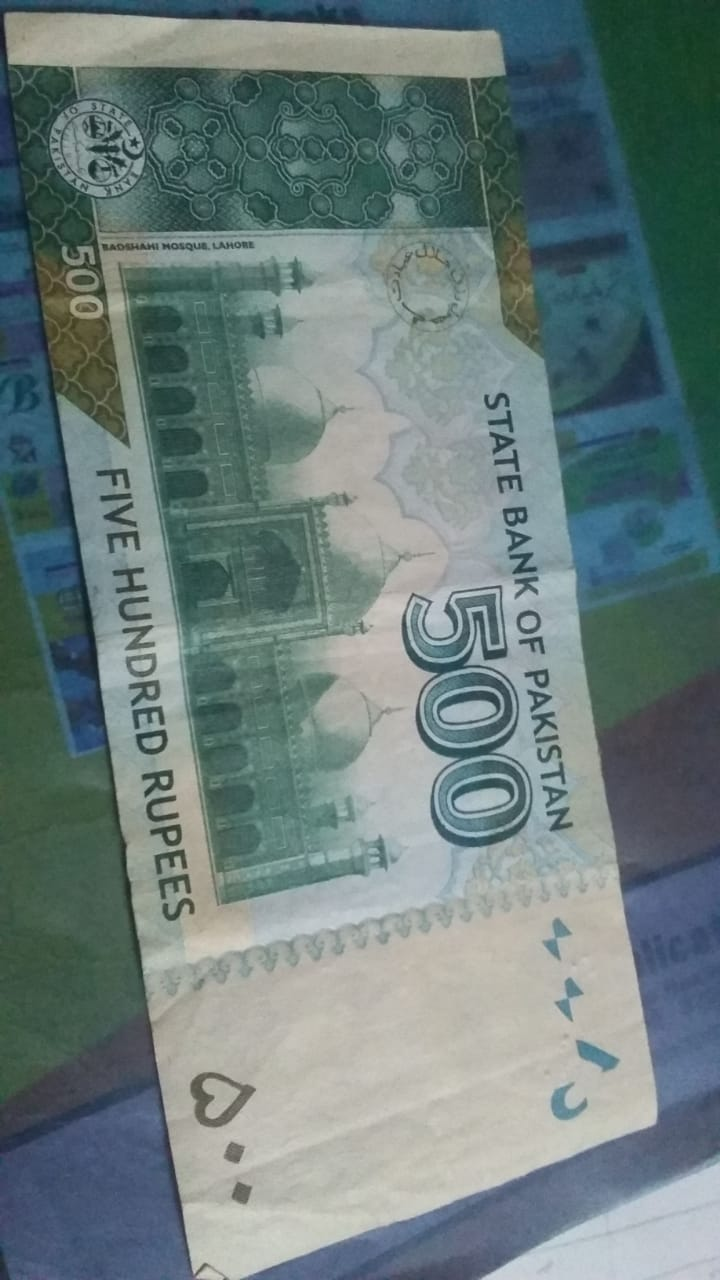500 rupee: (11, 27, 684, 1261)
